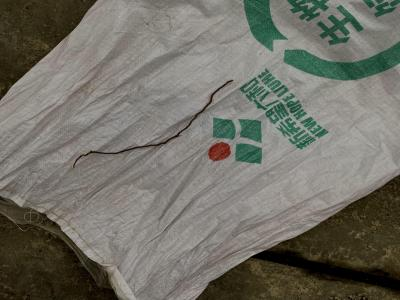Root: (71, 80, 233, 168)
